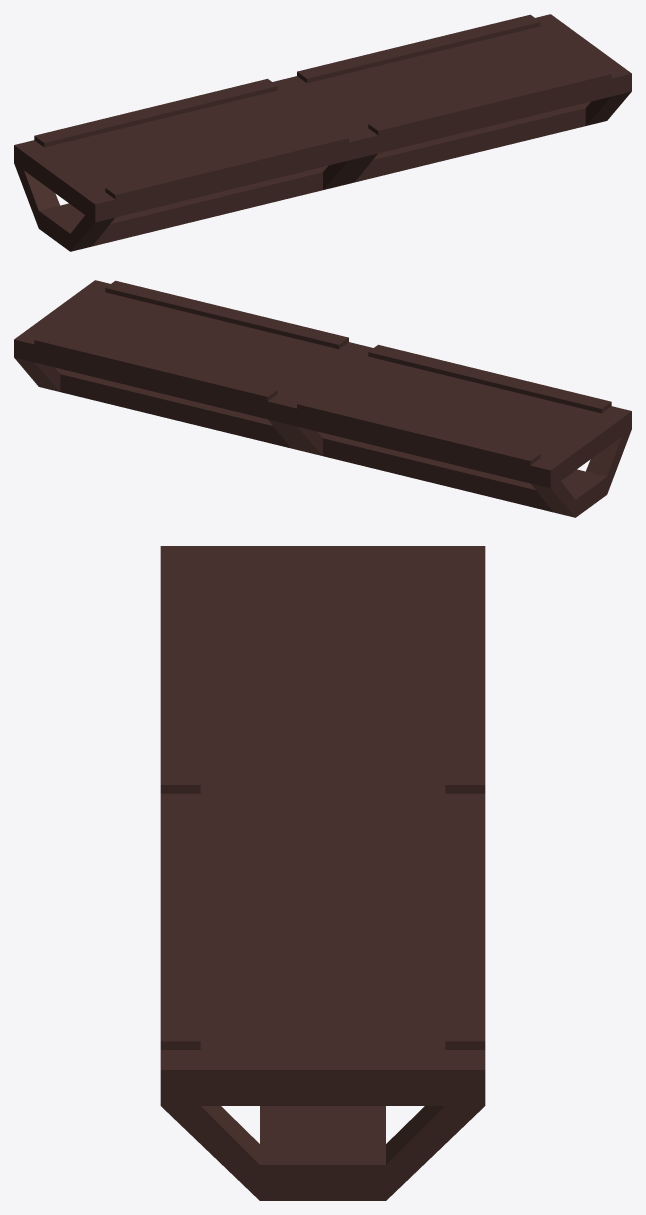
The model's file is Catwalk.glb.
3 views of the same model, one above another, from view 1: azimuth 30°, elevation 25°; view 2: azimuth 150°, elevation 25°; view 3: azimuth 270°, elevation 25° (orthographic). The views are drawn at different scales.
Visible parts, largest first — view 1: CatWalk; view 2: CatWalk; view 3: CatWalk.
Part boxes in pixels (x1,y1,x2,y2): CatWalk: (14,14,631,251); CatWalk: (14,280,631,517); CatWalk: (160,546,485,1200).
Bounding box in the file's own units: 10.14 × 1.26 × 2.66.
